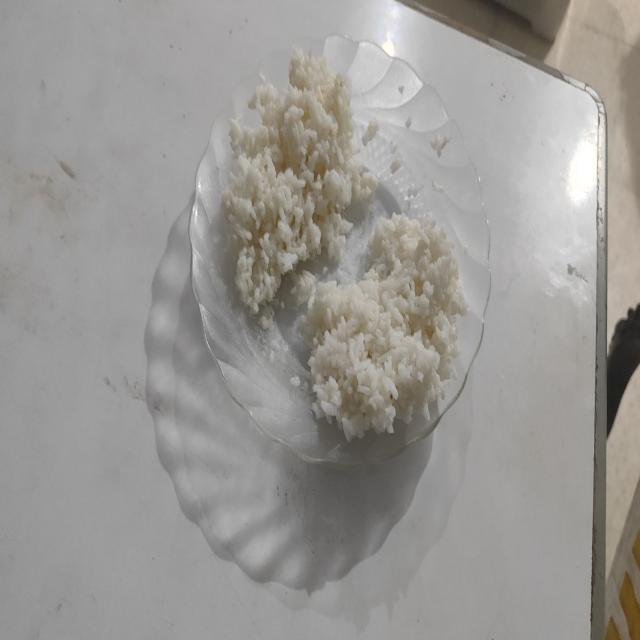nasi_putih: (222, 49, 376, 314), (306, 213, 459, 440)
